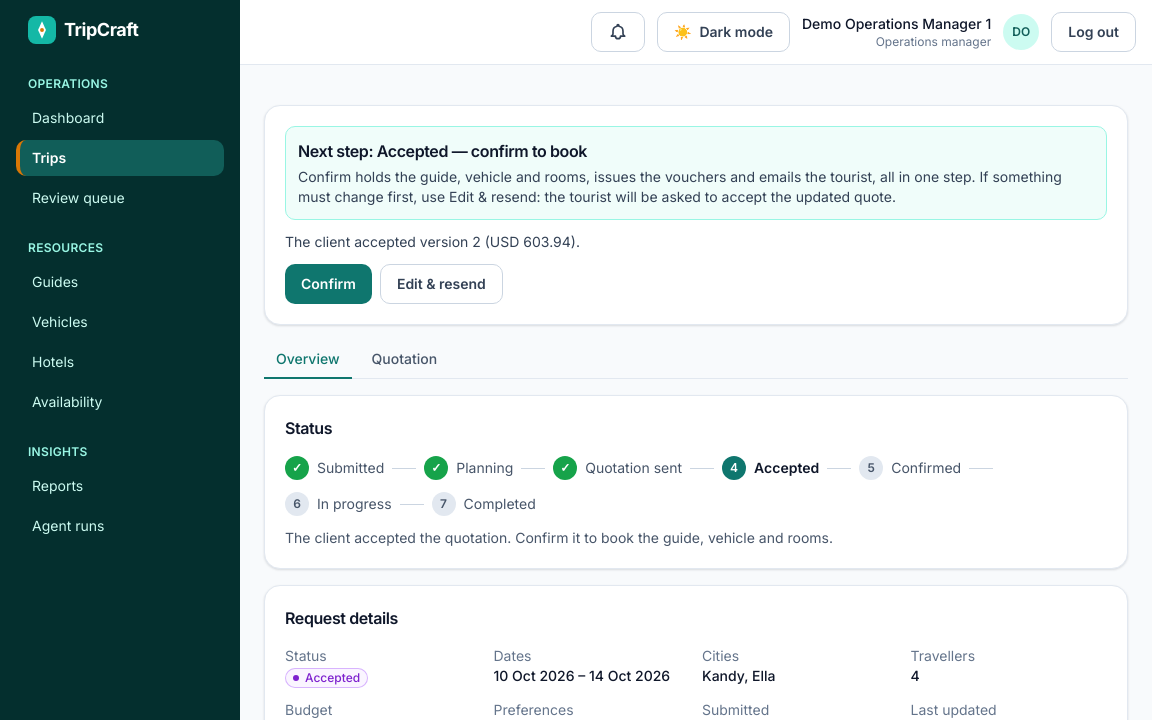
Test: Trip page actions: Accepted › confirms an accepted trip in one step
expect the text "The client accepted version 2 (USD 603.94)." is shown: met, box [285,233,580,250]
Click the button "Confirm" at [328, 284], box [285,264,372,304]
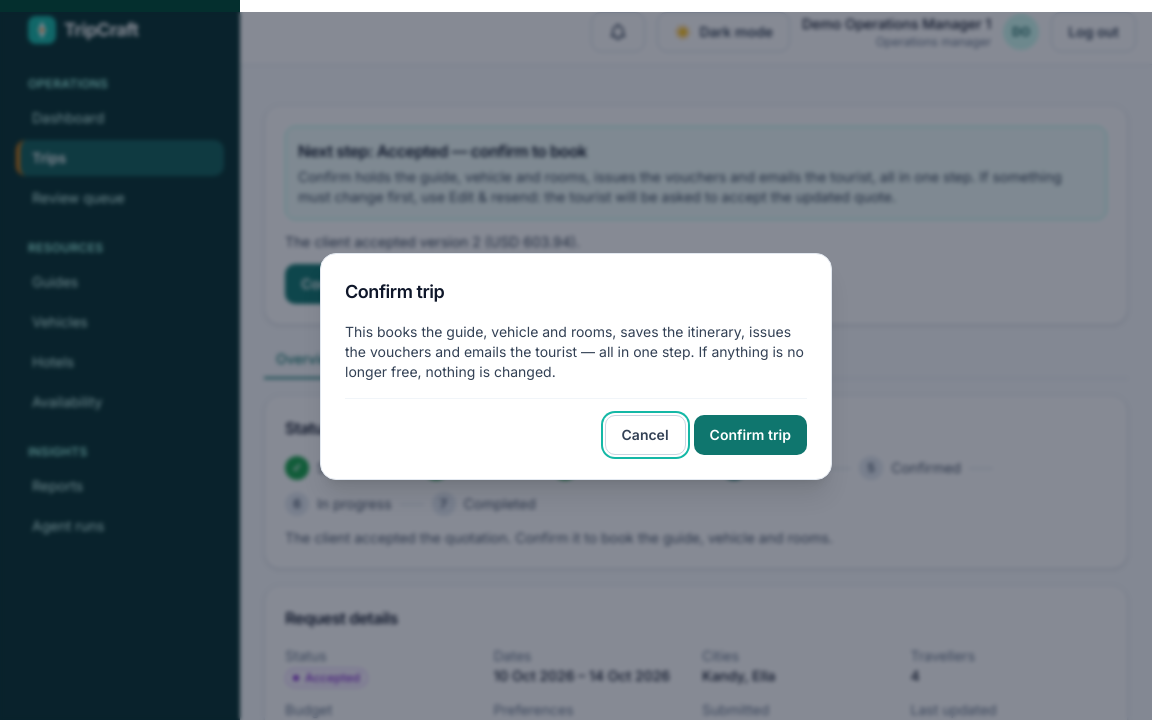
Click the button "Confirm trip" at [750, 434], box [694,414,807,454]
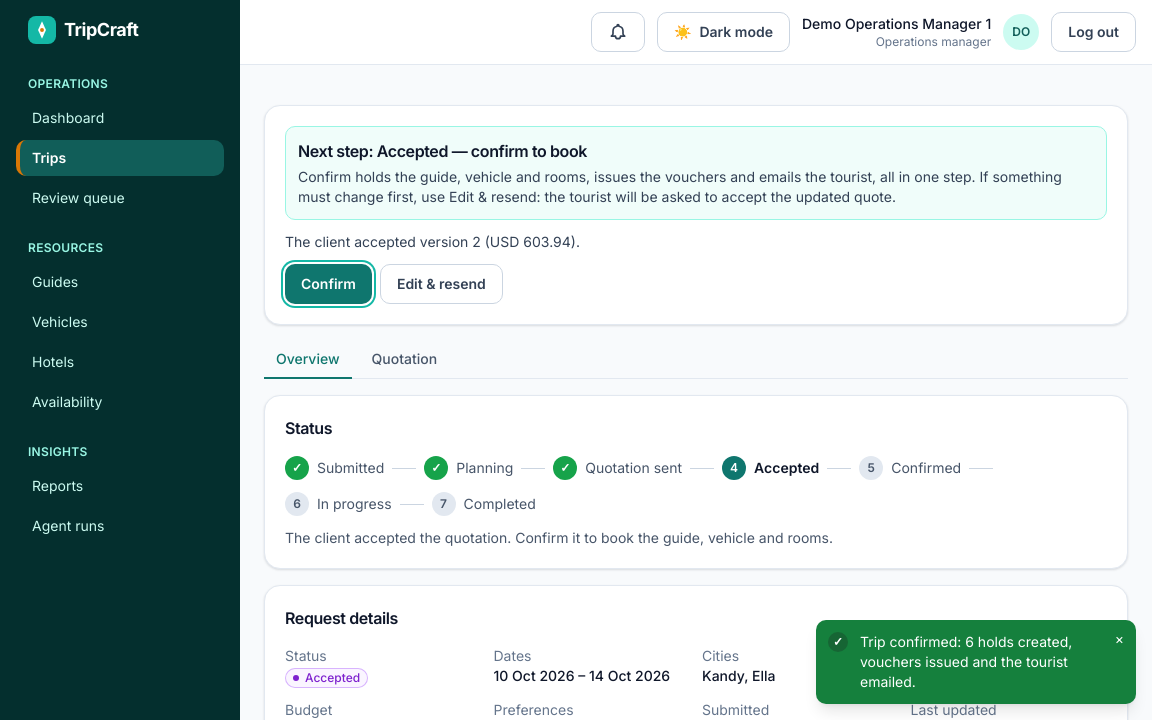
expect the text "Trip confirmed: 6 holds created, vouchers issued and the tourist emailed." is shown: met, box [860,632,1103,692]
